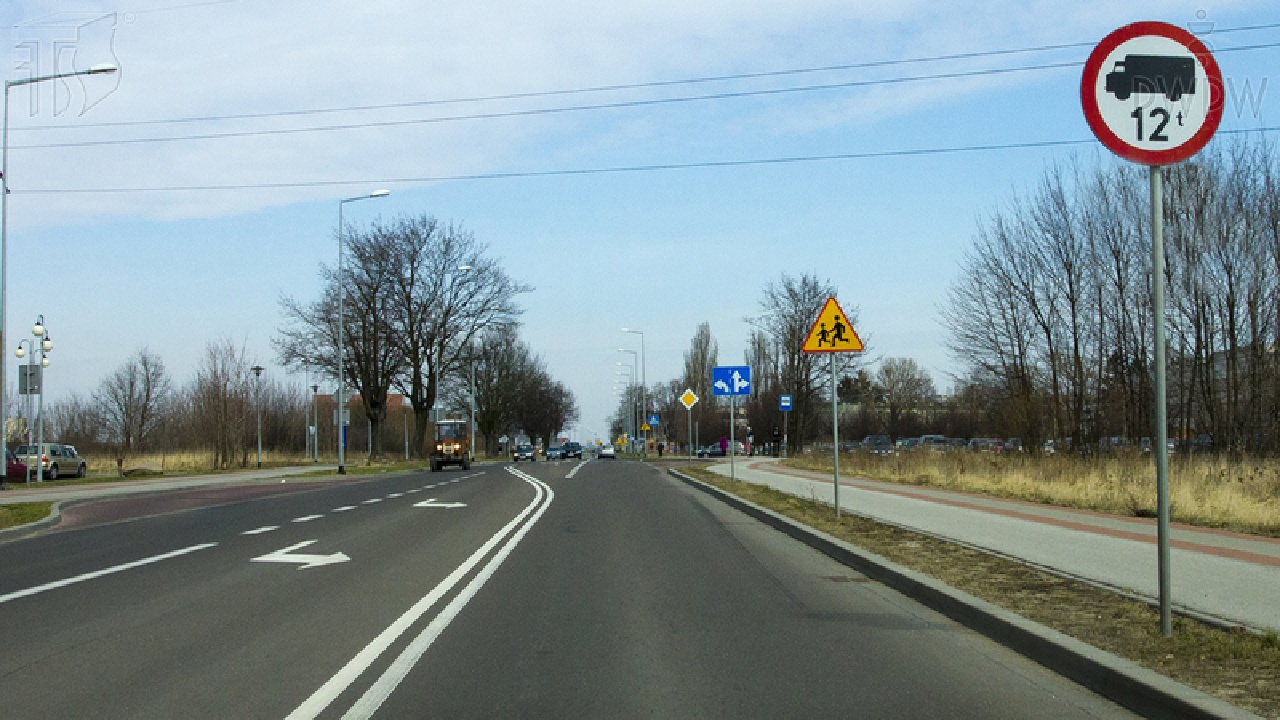A17: (801, 297, 865, 351)
B5: (1081, 21, 1226, 168)
D1: (678, 389, 700, 410)
